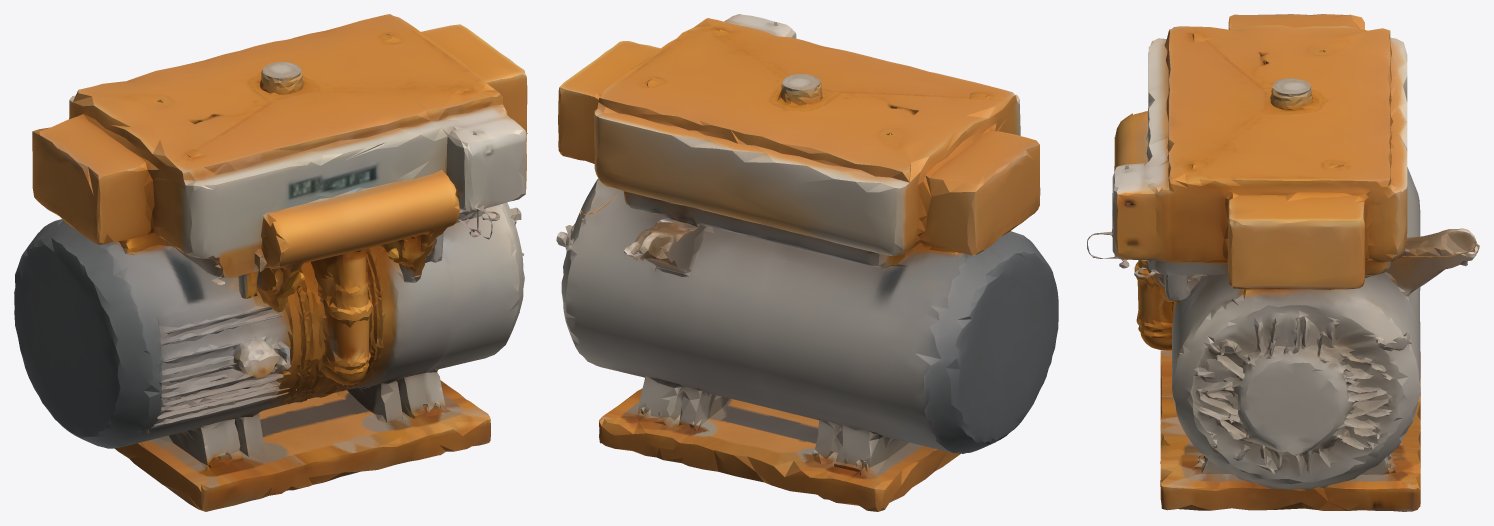
The model's file is golem_engine_aux.glb.
The picture shows the model from 3 angles, left to right: view 1: azimuth 30°, elevation 25°; view 2: azimuth 150°, elevation 25°; view 3: azimuth 270°, elevation 25°; orthographic projection. The views are drawn at different scales.
Visible parts, largest first — view 1: golem_engine_aux; view 2: golem_engine_aux; view 3: golem_engine_aux.
Boxes of the visible parts, left/top/right/bottom form: golem_engine_aux: left=14, top=14, right=527, bottom=511; golem_engine_aux: left=556, top=14, right=1058, bottom=511; golem_engine_aux: left=1087, top=14, right=1479, bottom=511.
Bounding box in the file's own units: 1.89 × 1.51 × 1.51.
Materials: 1 (1 with a texture image).
